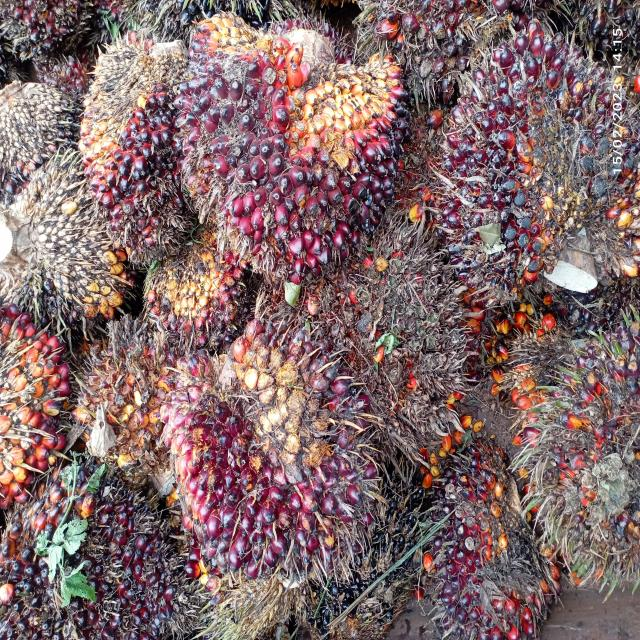fraksi 00: (0, 452, 198, 640)
fraksi 1: (143, 0, 437, 306), (143, 282, 401, 602), (424, 0, 640, 292), (70, 27, 245, 293), (423, 416, 564, 640)
fraksi 3: (0, 277, 84, 526)
